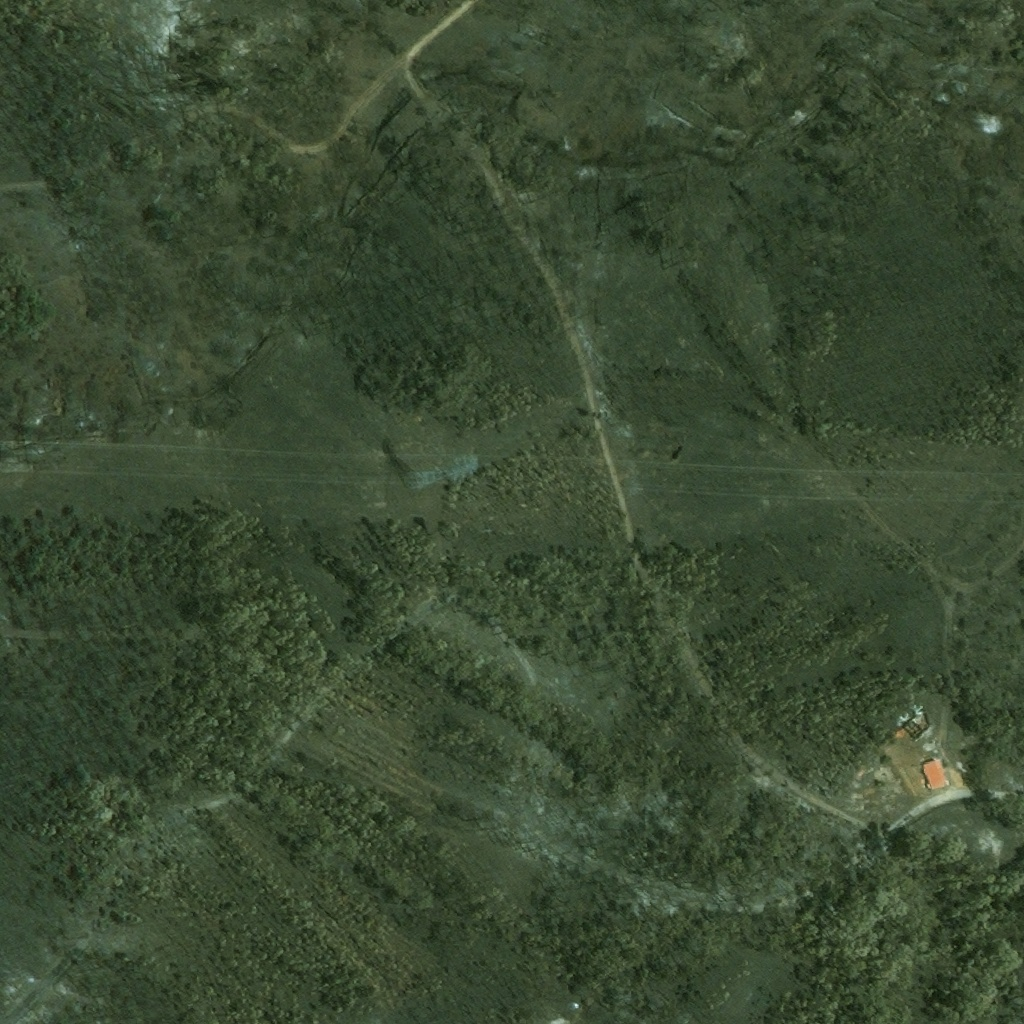0 no-damage: (919, 759, 947, 792)
3 destroyed: (902, 708, 929, 740)
